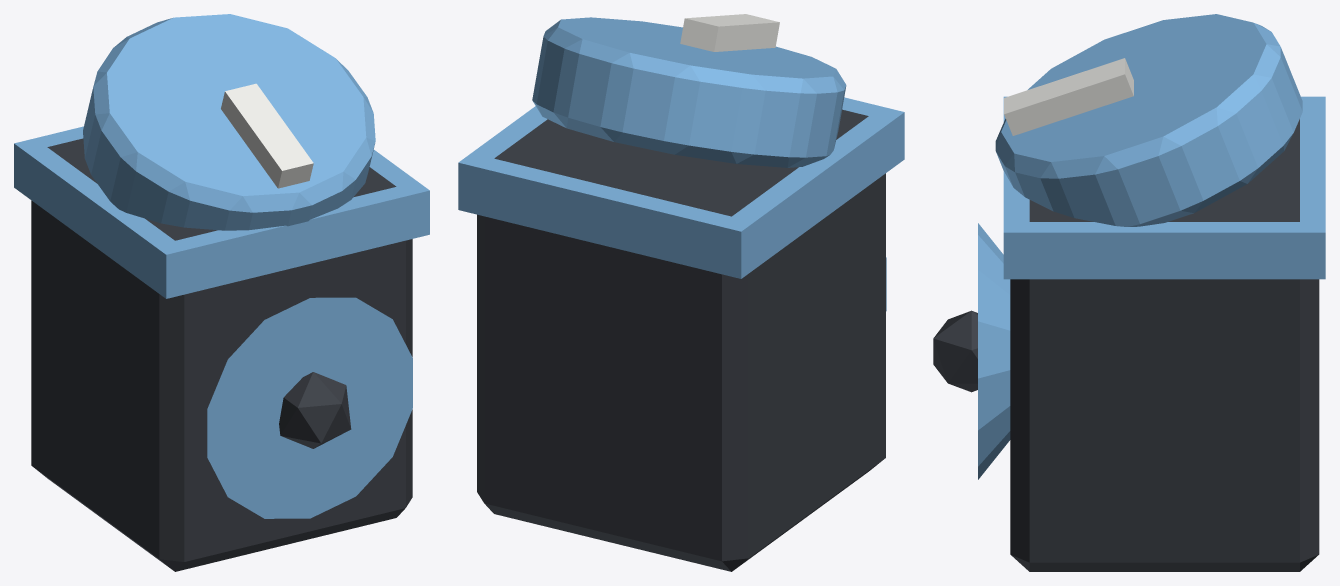
Rendered from headphones_m1_2.glb.
3 views of the same model, side by side, from view 1: azimuth 30°, elevation 25°; view 2: azimuth 150°, elevation 25°; view 3: azimuth 270°, elevation 25° (orthographic). The views are drawn at different scales.
Parts seen in each view (by area): view 1: headphones_m1_2_mesh; view 2: headphones_m1_2_mesh; view 3: headphones_m1_2_mesh.
Part boxes in pixels (box(x1,y1,x2,y2)): headphones_m1_2_mesh: box(14, 14, 429, 571); headphones_m1_2_mesh: box(458, 14, 904, 571); headphones_m1_2_mesh: box(933, 14, 1325, 571).
Bounding box in the file's own units: 0.25 × 0.4034 × 0.3048.
